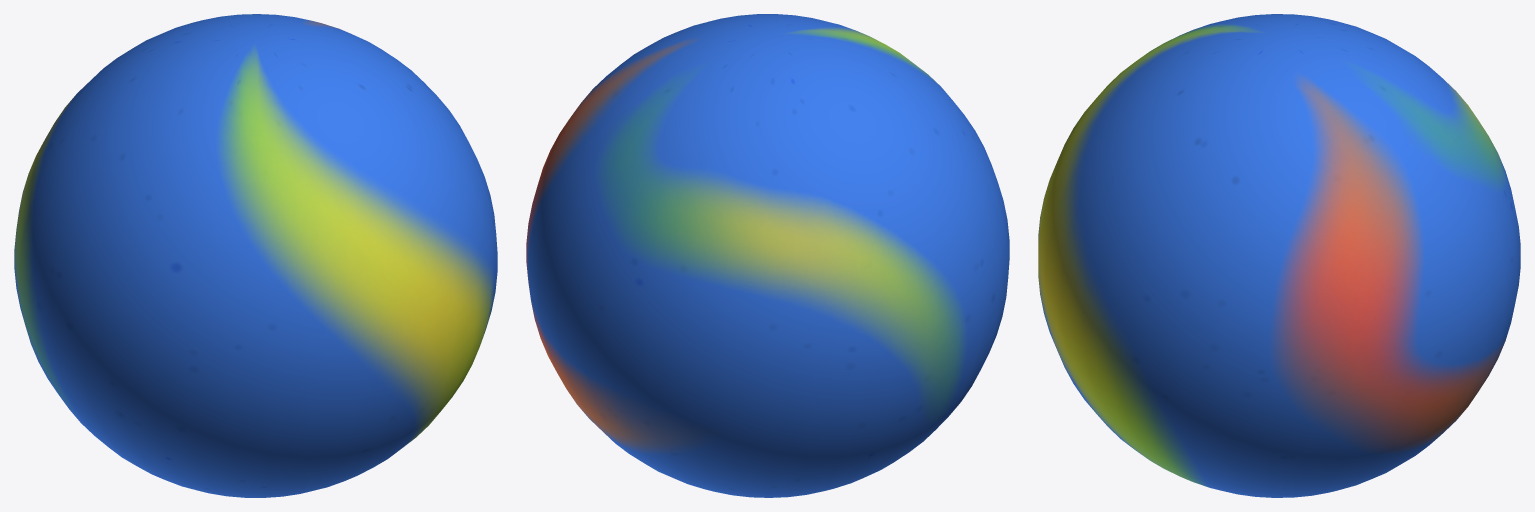
File: Baby_Blue.fbx
3 renders of one model, left to right at view 1: azimuth 30°, elevation 25°; view 2: azimuth 150°, elevation 25°; view 3: azimuth 270°, elevation 25°, orthographic.
Visible parts, largest first — view 1: Baby Blue; view 2: Baby Blue; view 3: Baby Blue.
Boxes of the visible parts, x1,y1,x2,y2 form: Baby Blue: [14, 14, 497, 497]; Baby Blue: [526, 14, 1009, 497]; Baby Blue: [1038, 14, 1520, 497].
Size of the model in its own units: 200 by 200 by 199.
1 material, 1 textured.
